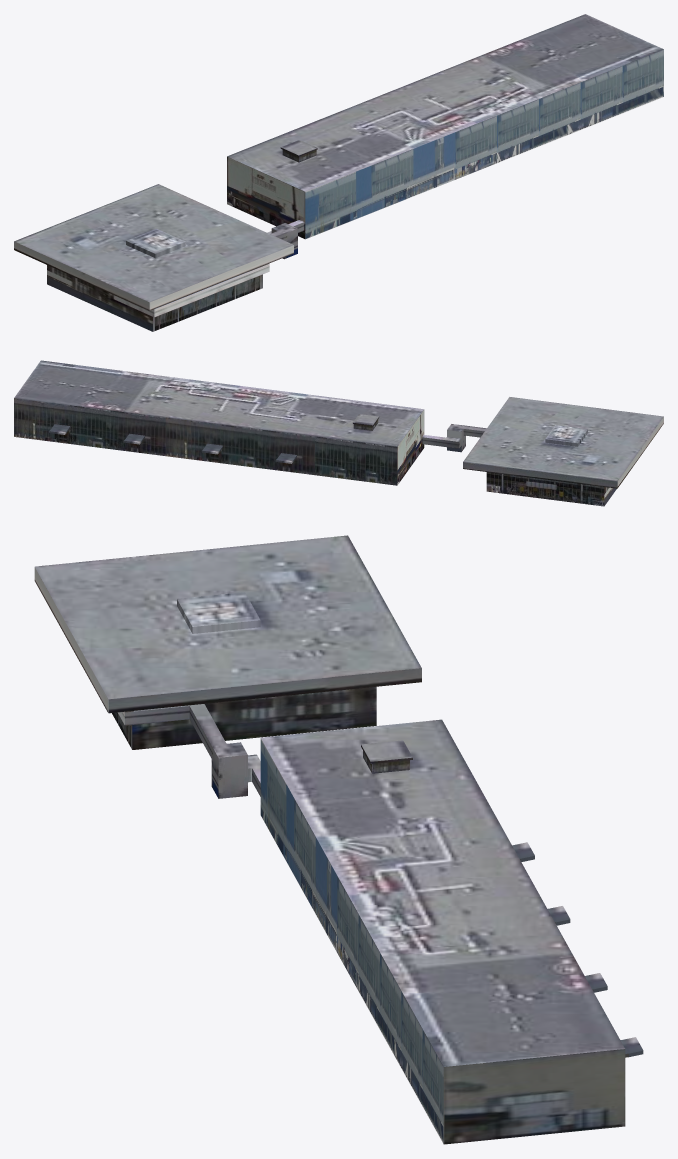
Rendered from Terminal_B.fbx.
The picture shows the model from 3 angles, top to bottom: view 1: azimuth 30°, elevation 25°; view 2: azimuth 150°, elevation 25°; view 3: azimuth 270°, elevation 25°; orthographic projection. The views are drawn at different scales.
Visible parts, largest first — view 1: Model; view 2: Model; view 3: Model.
Boxes of the visible parts, x1,y1,x2,y2 form: Model: (14,14,663,331); Model: (14,360,663,506); Model: (34,535,643,1144).
Size of the model in its own units: 297 by 23.14 by 142.
36 materials, 36 textured.
